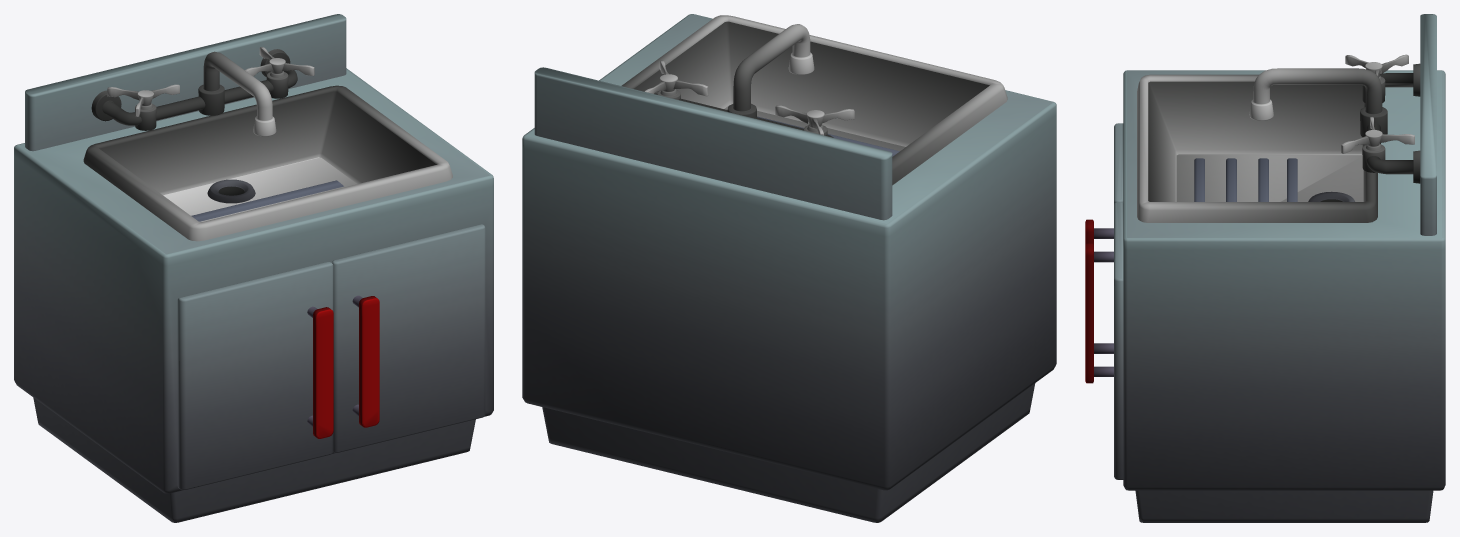
The model's file is environment_sink.fbx.
The picture shows the model from 3 angles, left to right: view 1: azimuth 30°, elevation 25°; view 2: azimuth 150°, elevation 25°; view 3: azimuth 270°, elevation 25°; orthographic projection. The views are drawn at different scales.
Visible parts, largest first — view 1: environment_sink, environment_sink right door, environment_sink left door; view 2: environment_sink; view 3: environment_sink, environment_sink left door, environment_sink right door.
Boxes of the visible parts, x1,y1,x2,y2 form: environment_sink: [14, 14, 493, 522]; environment_sink right door: [177, 262, 333, 489]; environment_sink left door: [332, 224, 485, 452]; environment_sink: [522, 14, 1056, 522]; environment_sink: [1123, 14, 1445, 522]; environment_sink left door: [1085, 202, 1123, 479]; environment_sink right door: [1085, 123, 1123, 353].
Bounding box in the file's own units: 80 × 82.66 × 71.53.
